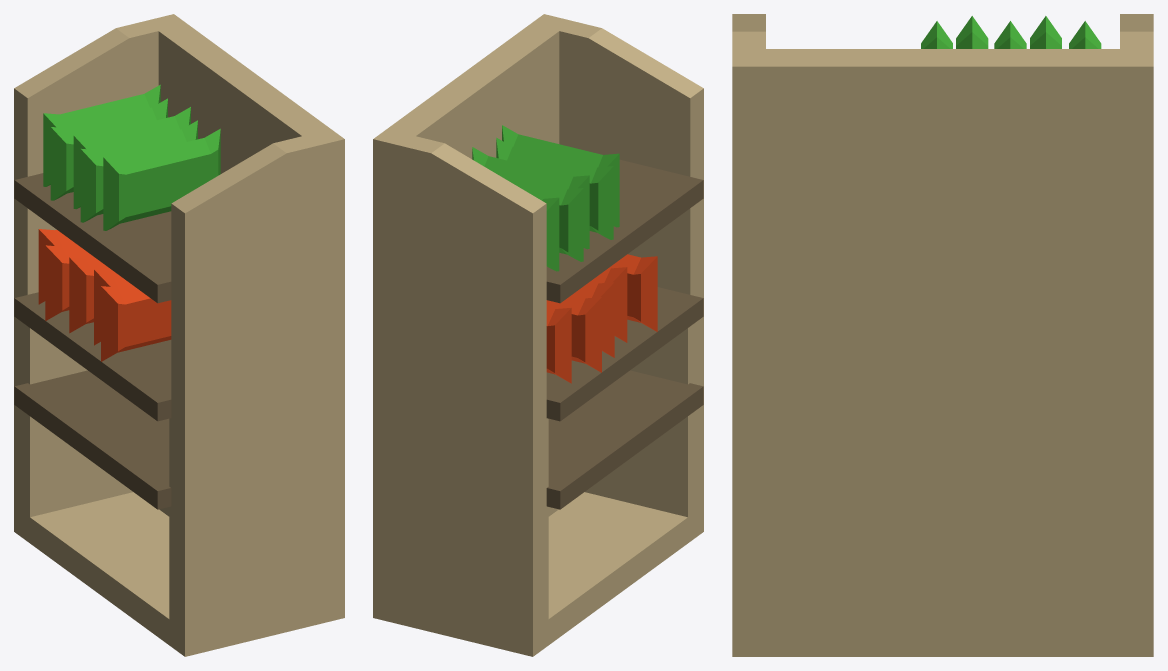
The model's file is rak1.fbx.
3 views of the same model, side by side, from view 1: azimuth 30°, elevation 25°; view 2: azimuth 150°, elevation 25°; view 3: azimuth 270°, elevation 25° (orthographic). The views are drawn at different scales.
Parts seen in each view (by area): view 1: Cube.009; view 2: Cube.009; view 3: Cube.009.
Boxes of the visible parts, <box> form: Cube.009: <box>14,14,344,656</box>; Cube.009: <box>373,14,703,656</box>; Cube.009: <box>732,14,1153,656</box>.
Size of the model in its own units: 120 by 186 by 72.65.
